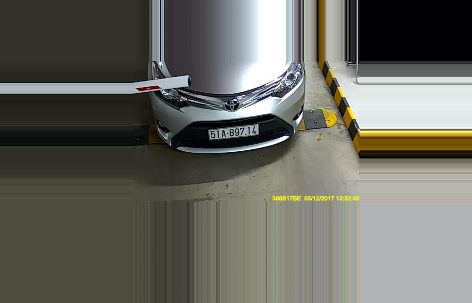plate: (205, 124, 266, 142)
